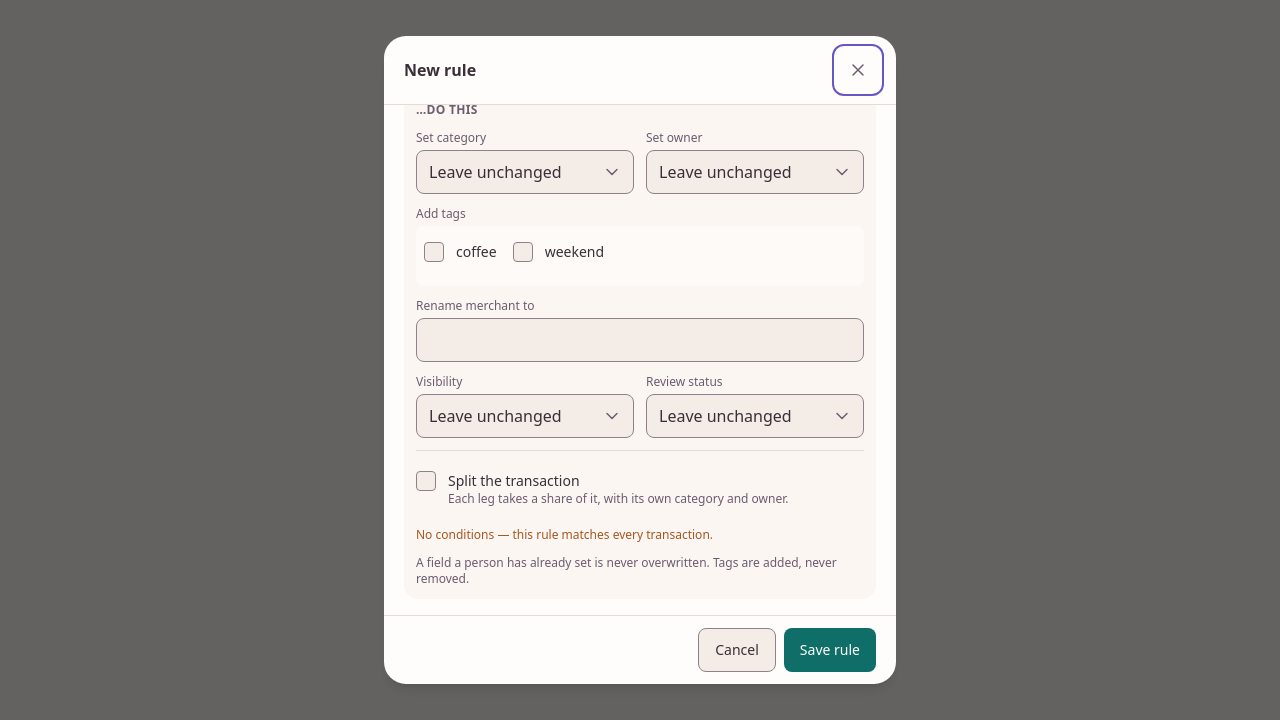
Test: <RuleBuilder /> › refuses an enabled split with no legs at all
(page scrolled)
Click the checkbox with test id "rule-split-toggle".
click(426, 481)  # box [416,471,436,491]
(page scrolled)
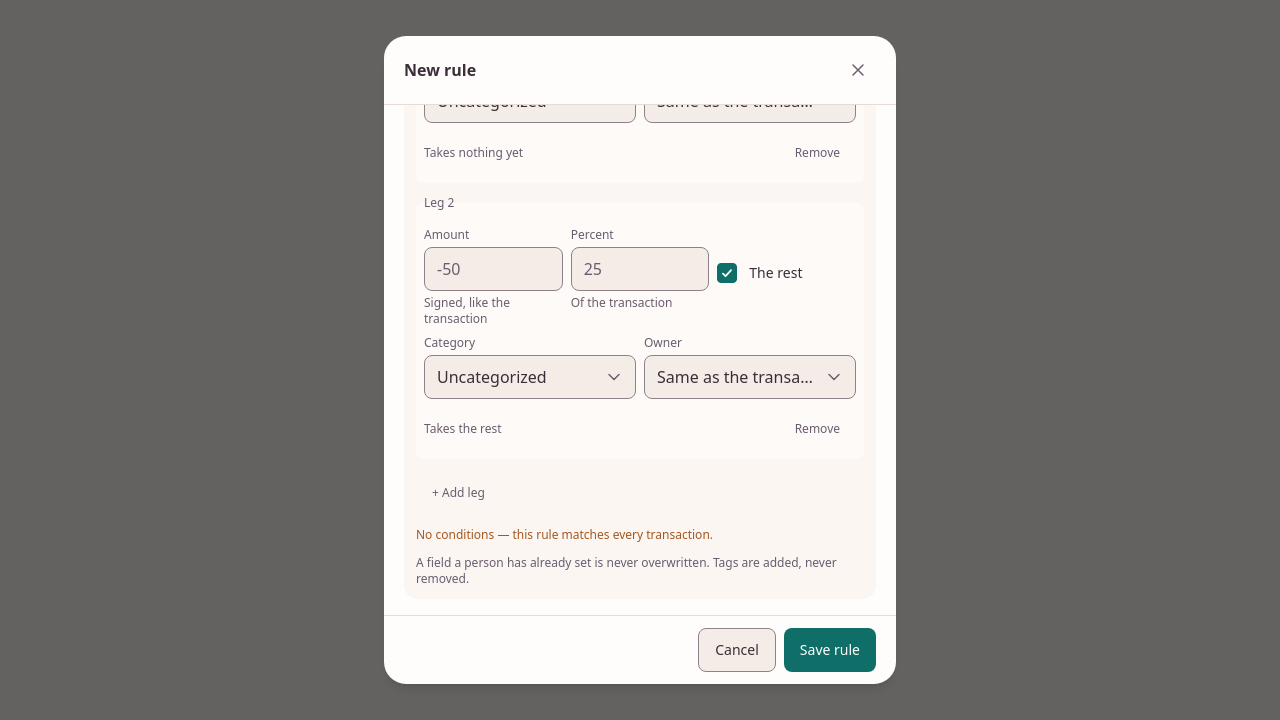
Click the button with test id "rule-split-leg-1-remove".
click(817, 429)  # box [779,407,856,451]
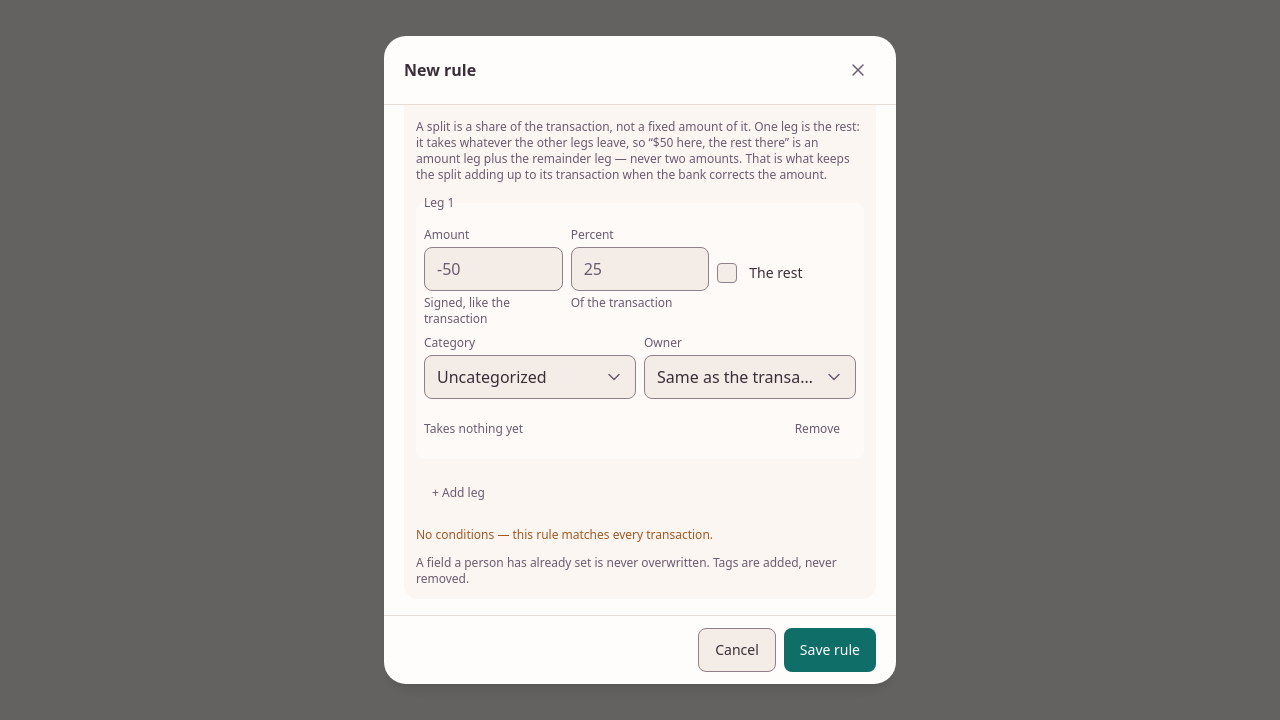
Click the button with test id "rule-split-leg-0-remove".
click(817, 429)  # box [779,407,856,451]
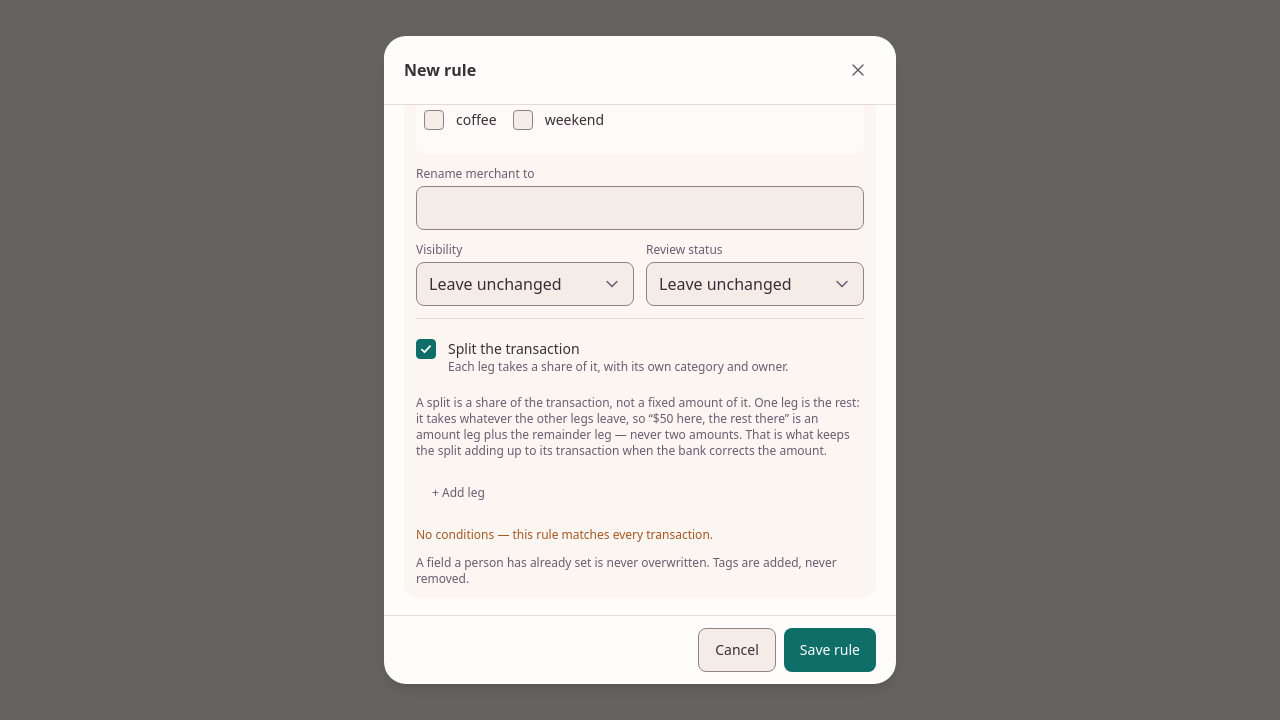
Click the button with test id "rule-save".
click(830, 650)  # box [784,628,876,672]
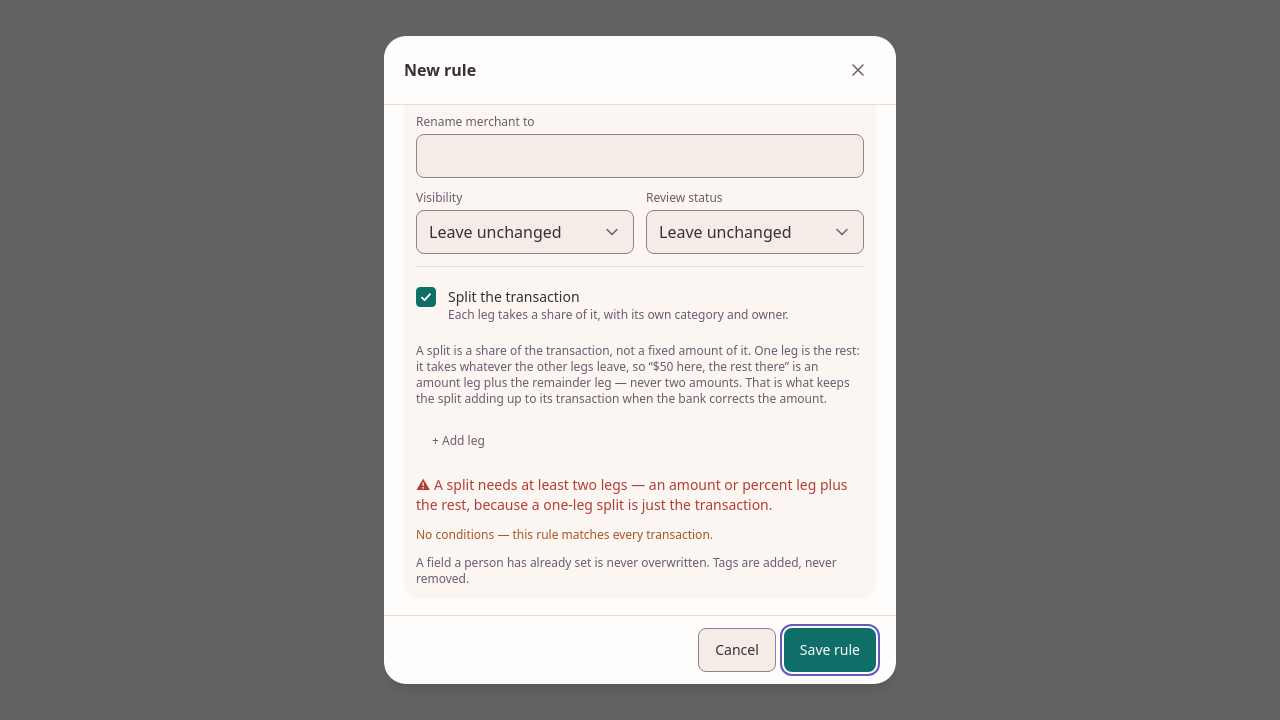
Expected: the element with test id "rule-split-error" shows "A split needs at least two legs", [416,475,848,514]
